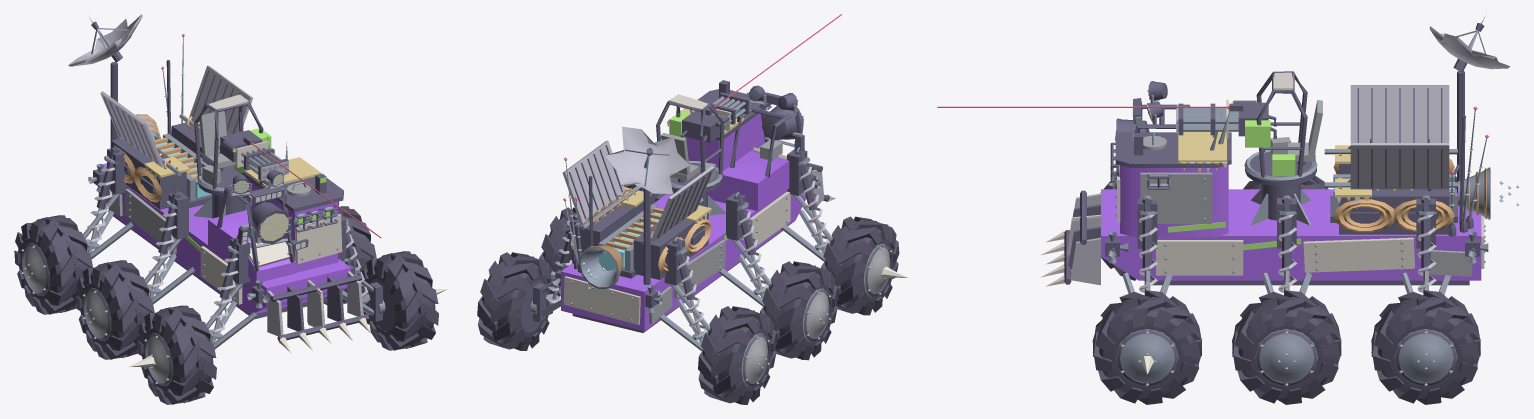
File: warrig_b.glb
The picture shows the model from 3 angles, left to right: view 1: azimuth 30°, elevation 25°; view 2: azimuth 150°, elevation 25°; view 3: azimuth 270°, elevation 25°; orthographic projection. The views are drawn at different scales.
Parts seen in each view (by area): view 1: wb_wb_chassis_dark_15, wb_w0_wb_wheel0_tire_50, wb_wb_chassis_body_70, wb_w1_wb_wheel1_tire_50, wb_wb_chassis_dark_20, wb_w4_wb_wheel4_tire_50, wb_w2_wb_wheel2_tire_50, wb_wb_chassis_metal_25, wb_wb_chassis_bleach_25, wb_wb_chassis_dark_30, wb_wb_chassis_dark_40, wb_wb_chassis_body_50 (+28 smaller); view 2: wb_wb_chassis_body_70, wb_w4_wb_wheel4_tire_50, wb_w5_wb_wheel5_tire_50, wb_wb_chassis_dark_20, wb_w2_wb_wheel2_tire_50, wb_w0_wb_wheel0_tire_50, wb_wb_chassis_metal_25, wb_wb_chassis_bleach_25, wb_wb_chassis_metal_20, wb_wb_chassis_dark_15, wb_wb_chassis_dark_40, wb_wb_chassis_body_50 (+25 smaller); view 3: wb_wb_chassis_body_70, wb_wb_chassis_metal_25, wb_w5_wb_wheel5_tire_50, wb_w3_wb_wheel3_tire_50, wb_w1_wb_wheel1_tire_50, wb_wb_chassis_bleach_25, wb_wb_chassis_dark_20, wb_wb_chassis_dark_30, wb_wb_chassis_dark_15, wb_wb_chassis_primer_25, wb_wb_chassis_copper_10, wb_w5_wb_wheel5_steel_20 (+28 smaller).
Part boxes in pixels (x1,y1,x2,y2): wb_wb_chassis_dark_15: [93, 62, 382, 340]; wb_w0_wb_wheel0_tire_50: [137, 305, 216, 404]; wb_wb_chassis_body_70: [98, 163, 350, 314]; wb_w1_wb_wheel1_tire_50: [361, 251, 438, 350]; wb_wb_chassis_dark_20: [96, 147, 356, 299]; wb_w4_wb_wheel4_tire_50: [14, 215, 93, 314]; wb_w2_wb_wheel2_tire_50: [76, 260, 154, 359]; wb_wb_chassis_metal_25: [100, 65, 252, 167]; wb_wb_chassis_bleach_25: [200, 214, 342, 304]; wb_wb_chassis_dark_30: [113, 171, 343, 319]; wb_wb_chassis_dark_40: [111, 120, 202, 209]; wb_wb_chassis_body_50: [208, 210, 295, 281]; wb_wb_chassis_body_70: [561, 108, 811, 330]; wb_w4_wb_wheel4_tire_50: [698, 306, 776, 404]; wb_w5_wb_wheel5_tire_50: [477, 252, 555, 350]; wb_wb_chassis_dark_20: [559, 85, 817, 299]; wb_w2_wb_wheel2_tire_50: [760, 261, 837, 360]; wb_w0_wb_wheel0_tire_50: [821, 216, 899, 315]; wb_wb_chassis_metal_25: [562, 140, 714, 241]; wb_wb_chassis_bleach_25: [563, 191, 790, 324]; wb_wb_chassis_metal_20: [605, 126, 690, 194]; wb_wb_chassis_dark_15: [533, 80, 832, 333]; wb_wb_chassis_dark_40: [573, 202, 708, 279]; wb_wb_chassis_body_50: [719, 151, 789, 211]; wb_wb_chassis_body_70: [1101, 165, 1481, 280]; wb_wb_chassis_metal_25: [1350, 85, 1449, 189]; wb_w5_wb_wheel5_tire_50: [1371, 290, 1480, 404]; wb_w3_wb_wheel3_tire_50: [1232, 290, 1341, 404]; wb_w1_wb_wheel1_tire_50: [1092, 290, 1201, 404]; wb_wb_chassis_bleach_25: [1117, 176, 1484, 275]; wb_wb_chassis_dark_20: [1116, 81, 1457, 270]; wb_wb_chassis_dark_30: [1115, 132, 1469, 285]; wb_wb_chassis_dark_15: [1064, 70, 1479, 284]; wb_wb_chassis_primer_25: [1140, 172, 1212, 223]; wb_wb_chassis_copper_10: [1333, 158, 1454, 232]; wb_w5_wb_wheel5_steel_20: [1394, 329, 1457, 382].
Size of the model in its own units: 7.22 by 5.59 by 10.03.
